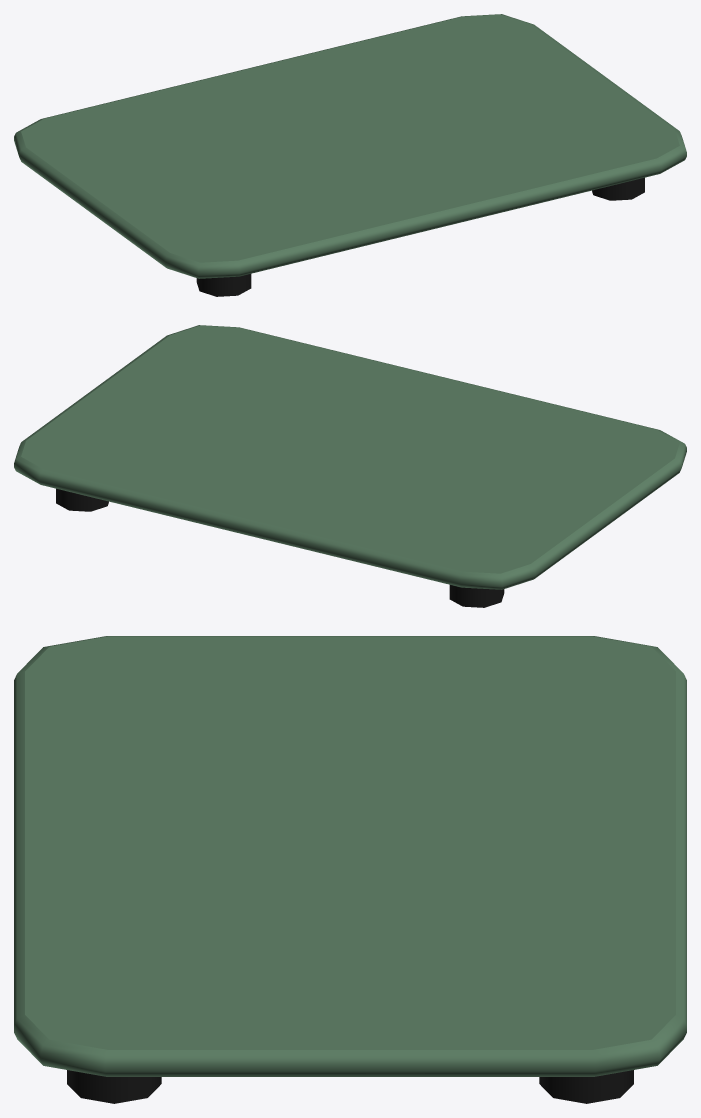
The model's file is t10_mounts.obj.
The picture shows the model from 3 angles, top to bottom: view 1: azimuth 30°, elevation 25°; view 2: azimuth 150°, elevation 25°; view 3: azimuth 270°, elevation 25°; orthographic projection. The views are drawn at different scales.
Parts seen in each view (by area): view 1: t10_mounts; view 2: t10_mounts; view 3: t10_mounts.
Part boxes in pixels (box(x1,y1,x2,y2)): t10_mounts: box(14, 14, 686, 296); t10_mounts: box(14, 325, 686, 607); t10_mounts: box(14, 636, 686, 1103).
Size of the model in its own units: 2.74 by 0.24 by 1.85.
